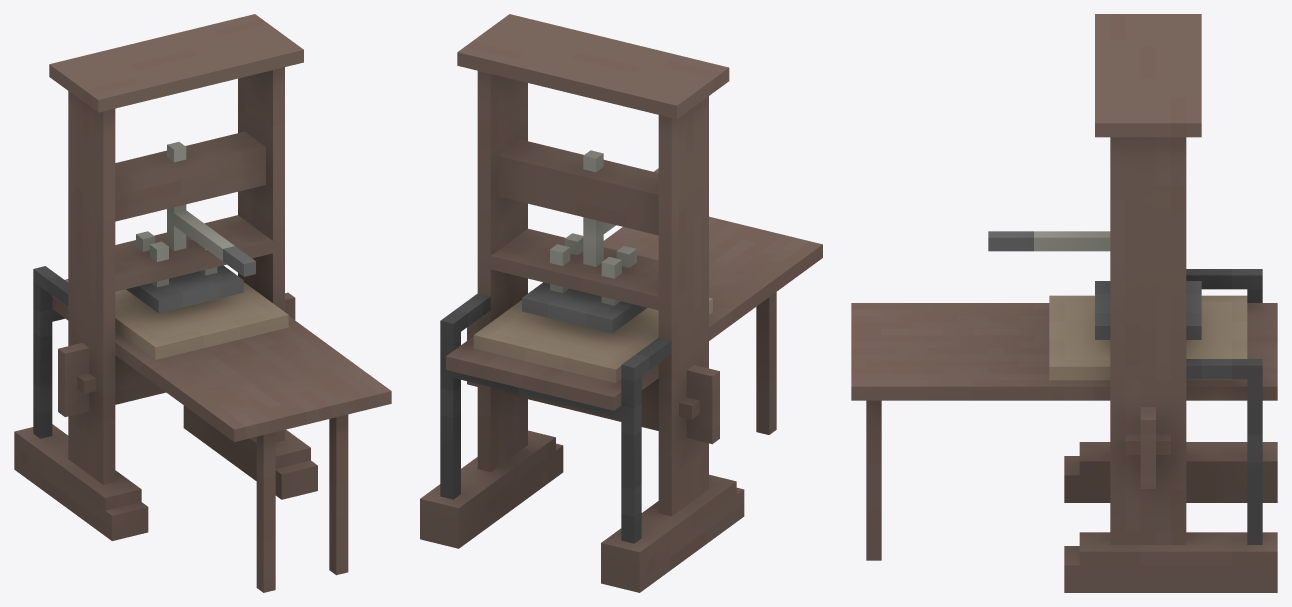
Rendered from press.gltf.
3 renders of one model, left to right at view 1: azimuth 30°, elevation 25°; view 2: azimuth 150°, elevation 25°; view 3: azimuth 270°, elevation 25°, orthographic. The views are drawn at different scales.
Visible parts, largest first — view 1: Geode; view 2: Geode; view 3: Geode.
Part boxes in pixels (x1=…): Geode: x1=14, y1=14, x2=391, y2=592; Geode: x1=420, y1=14, x2=822, y2=592; Geode: x1=851, y1=14, x2=1277, y2=592.
Size of the model in its own units: 19 by 34 by 28.
